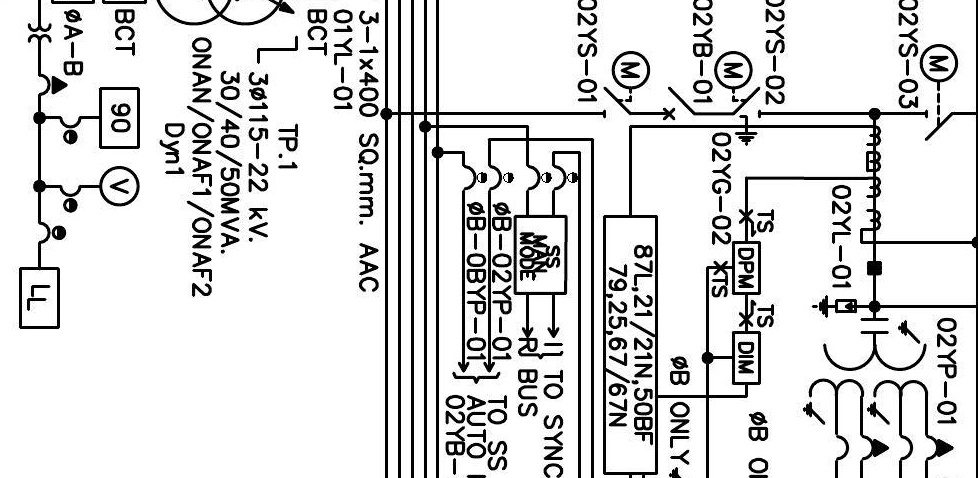115_1way_ds_w_motor: (919, 43, 960, 142), (603, 50, 651, 119)
115_3ways_ds_w_motor: (713, 50, 762, 147)
115_breaker: (663, 86, 696, 121)
115_cvt_1p: (802, 317, 955, 463)
115_la: (811, 294, 857, 318)
DIM: (732, 331, 761, 385)
DPM: (732, 241, 761, 295)
LL: (18, 267, 60, 329)
ss_man_mode: (513, 215, 568, 295)
v_m: (98, 165, 141, 207)
